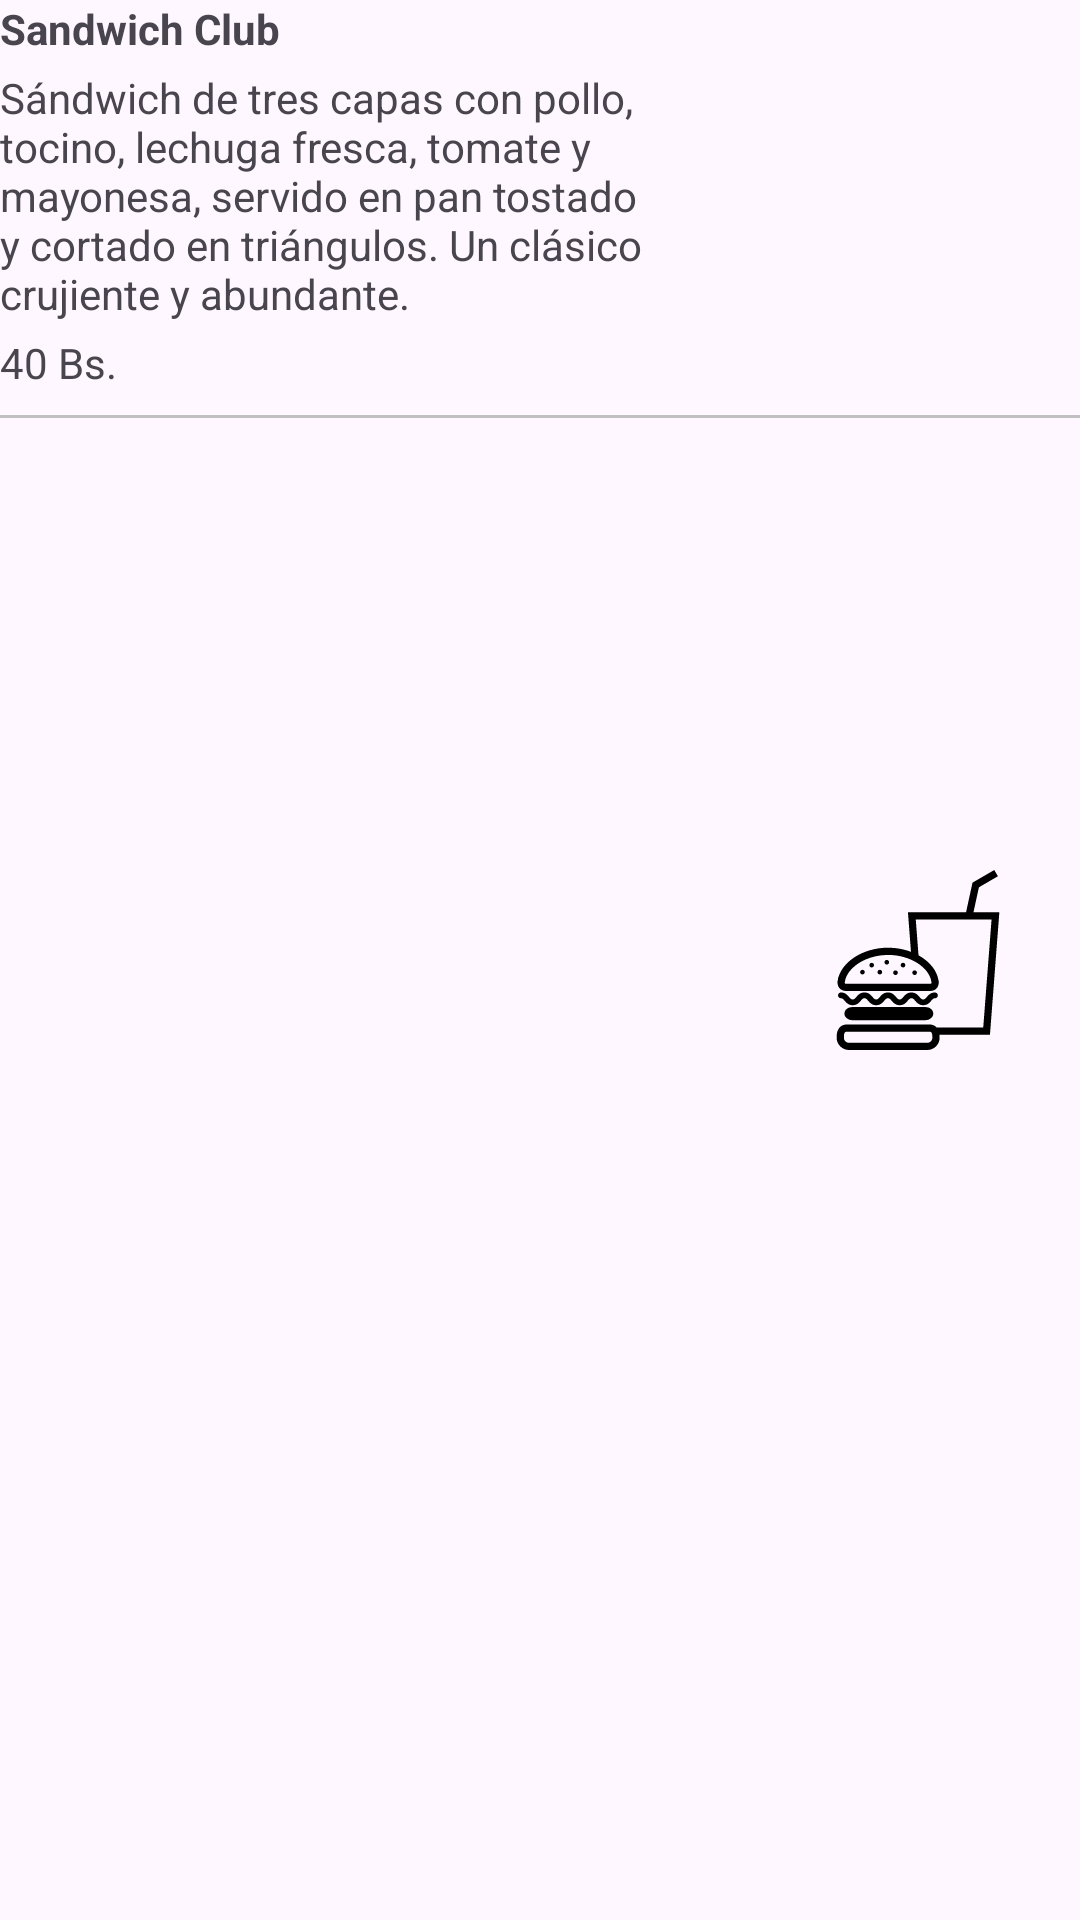

Named icons in this screenshot (1080 × 1920) and their bounding boxes, rect(x1, y1, x2, y2):
food: rect(836, 870, 1000, 1050)
